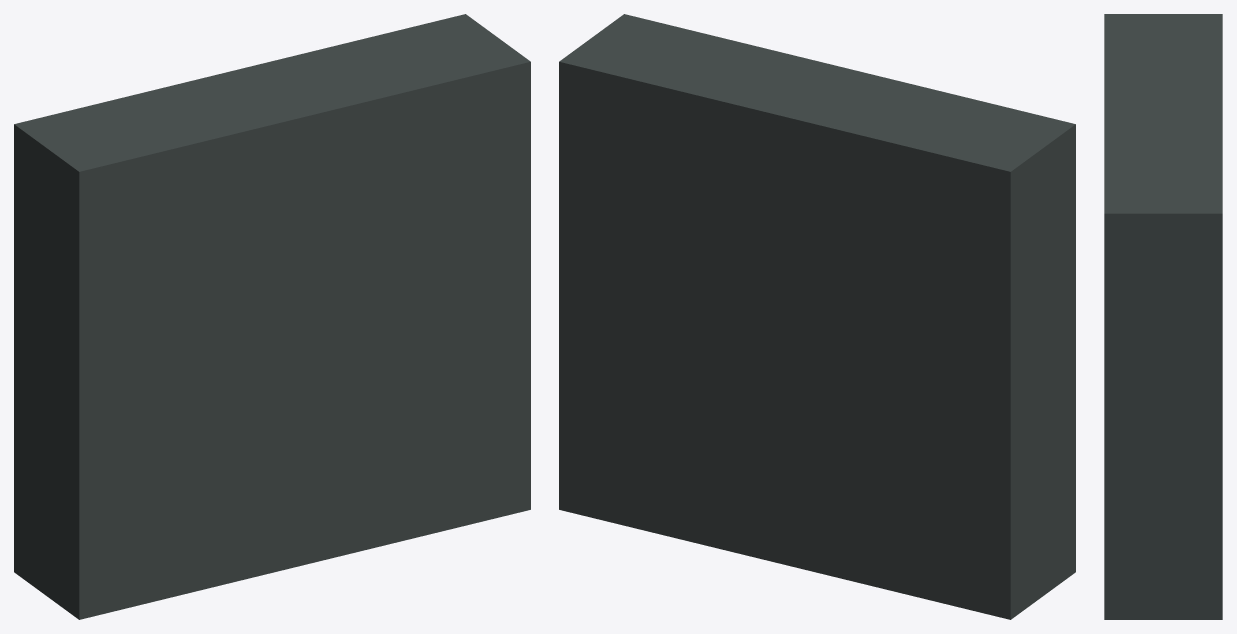
The model's file is CMU3DInteriorVehicleTankProp3.glb.
The picture shows the model from 3 angles, left to right: view 1: azimuth 30°, elevation 25°; view 2: azimuth 150°, elevation 25°; view 3: azimuth 270°, elevation 25°; orthographic projection. The views are drawn at different scales.
Visible parts, largest first — view 1: turret station equipment, console top source finish, console top, turret station equipment source finish; view 2: turret station equipment, console top source finish, console top, turret station equipment source finish; view 3: turret station equipment, console top source finish, console top, turret station equipment source finish.
Boxes of the visible parts, x1,y1,x2,y2 form: turret station equipment: (14,87,530,619); console top source finish: (14,14,530,173); console top: (14,63,530,195); turret station equipment source finish: (14,86,530,196); turret station equipment: (559,87,1075,619); console top source finish: (559,14,1075,173); console top: (559,63,1075,195); turret station equipment source finish: (559,86,1075,196); turret station equipment: (1104,236,1222,619); console top source finish: (1104,14,1222,214); console top: (1104,215,1222,236); turret station equipment source finish: (1104,235,1222,236).
Bounding box in the file's own units: 1 × 0.948 × 0.25.
Materials: 2 (1 with a texture image).
